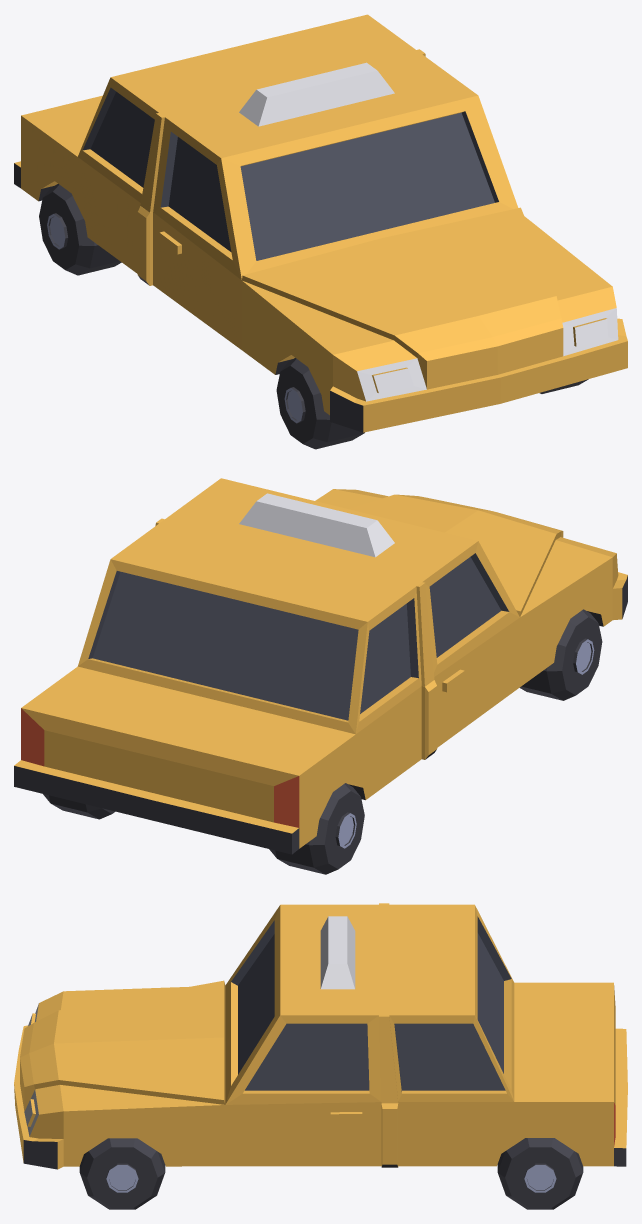
Rendered from Taxi.obj.
3 renders of one model, top to bottom at view 1: azimuth 30°, elevation 25°; view 2: azimuth 150°, elevation 25°; view 3: azimuth 270°, elevation 25°, orthographic. The views are drawn at different scales.
Parts seen in each view (by area): view 1: Taxi; view 2: Taxi; view 3: Taxi.
Part boxes in pixels (x1=…): Taxi: x1=14, y1=14, x2=627, y2=449; Taxi: x1=14, y1=478, x2=627, y2=874; Taxi: x1=14, y1=903, x2=627, y2=1209.
Size of the model in its own units: 1.84 by 1.45 by 3.79.
6 materials, 6 textured.
